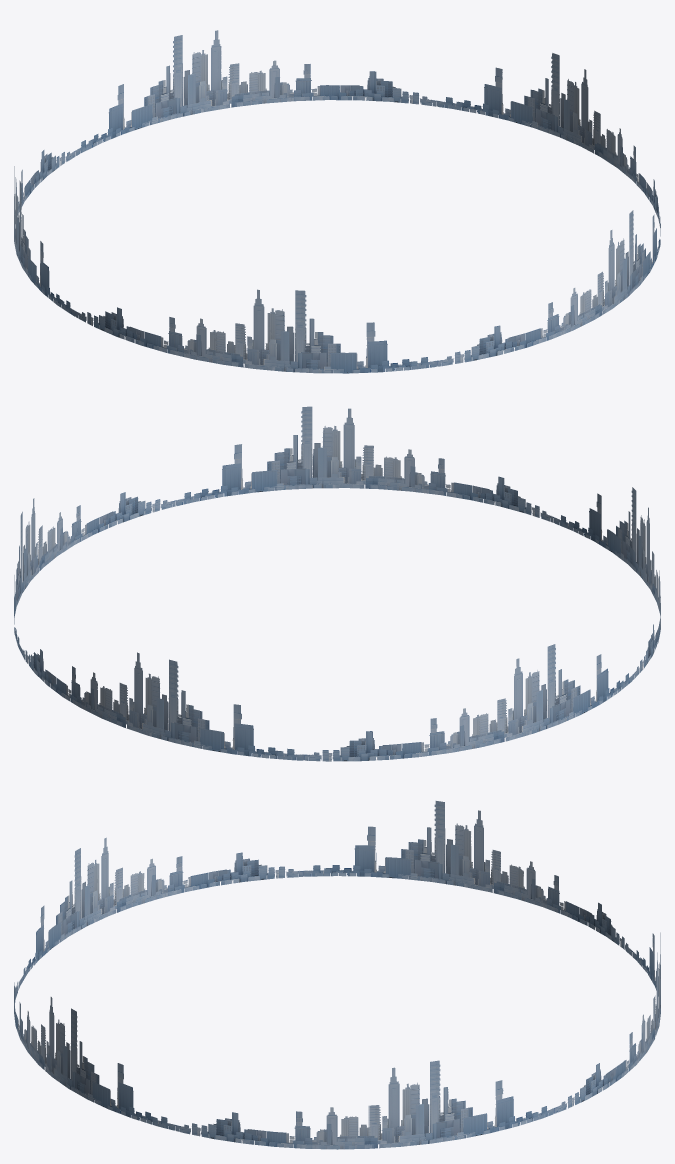
Rendered from Backcity_01.fbx.
3 renders of one model, top to bottom at view 1: azimuth 30°, elevation 25°; view 2: azimuth 150°, elevation 25°; view 3: azimuth 270°, elevation 25°, orthographic.
Visible parts, largest first — view 1: Backcity_01; view 2: Backcity_01; view 3: Backcity_01.
Boxes of the visible parts, bbox=[...] form: Backcity_01: bbox=[14, 30, 660, 373]; Backcity_01: bbox=[14, 406, 660, 761]; Backcity_01: bbox=[14, 801, 660, 1149].
Bounding box in the file's own units: 859226 × 125424 × 859226.
